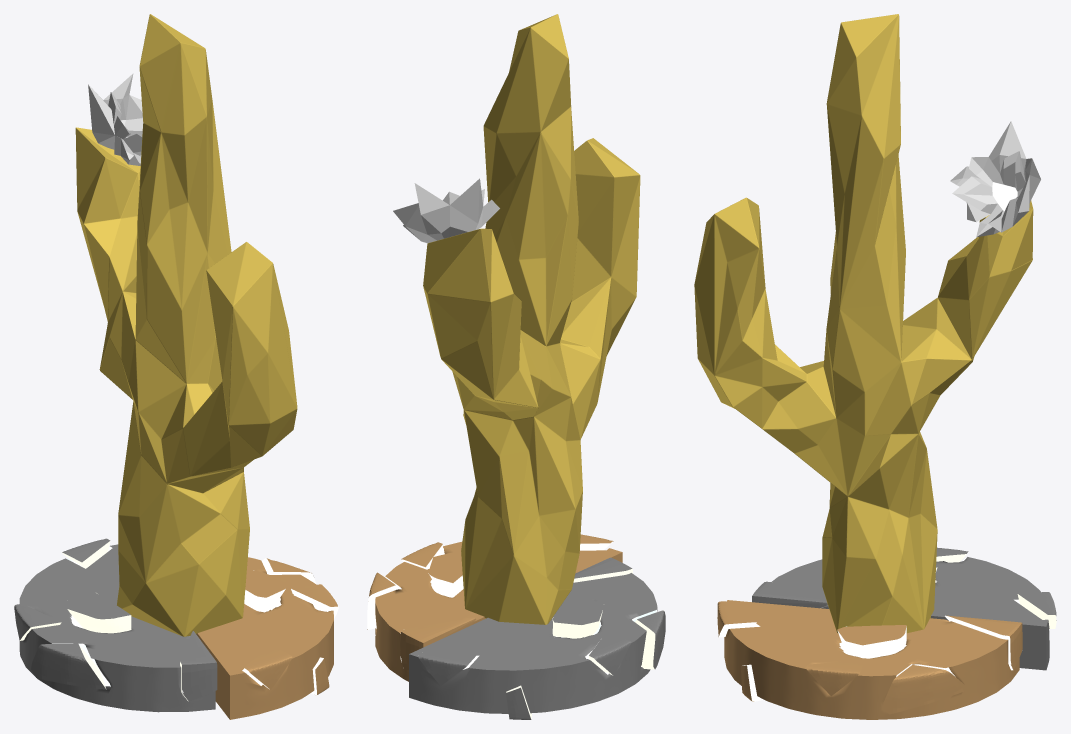
File: cactus_gld.gltf
3 renders of one model, left to right at view 1: azimuth 30°, elevation 25°; view 2: azimuth 150°, elevation 25°; view 3: azimuth 270°, elevation 25°, orthographic.
Parts seen in each view (by area): view 1: Retopo_Cylinder.007_cell.002; view 2: Retopo_Cylinder.007_cell.002; view 3: Retopo_Cylinder.007_cell.002.
Boxes of the visible parts, <box> form: Retopo_Cylinder.007_cell.002: <box>14,14,338,719</box>; Retopo_Cylinder.007_cell.002: <box>367,14,665,719</box>; Retopo_Cylinder.007_cell.002: <box>694,14,1056,719</box>.
Bounding box in the file's own units: 2.71 × 5.88 × 3.03.
